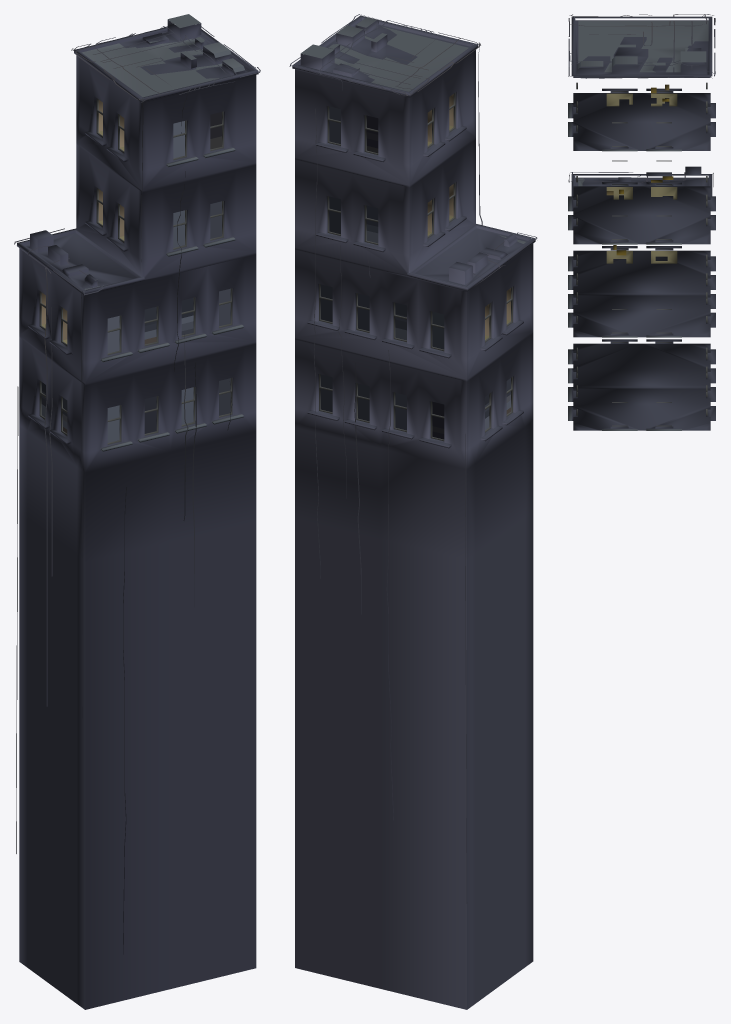
Rendered from mesh_bdg_K_04.gltf.
3 views of the same model, side by side, from view 1: azimuth 30°, elevation 25°; view 2: azimuth 150°, elevation 25°; view 3: azimuth 270°, elevation 25° (orthographic). The views are drawn at different scales.
Parts seen in each view (by area): view 1: geo1; view 2: geo1; view 3: geo1.
Boxes of the visible parts, bbox=[...] form: geo1: bbox=[14, 14, 260, 1009]; geo1: bbox=[289, 14, 537, 1009]; geo1: bbox=[568, 14, 715, 430].
Size of the model in its own units: 6.34 by 30.45 by 4.36.
